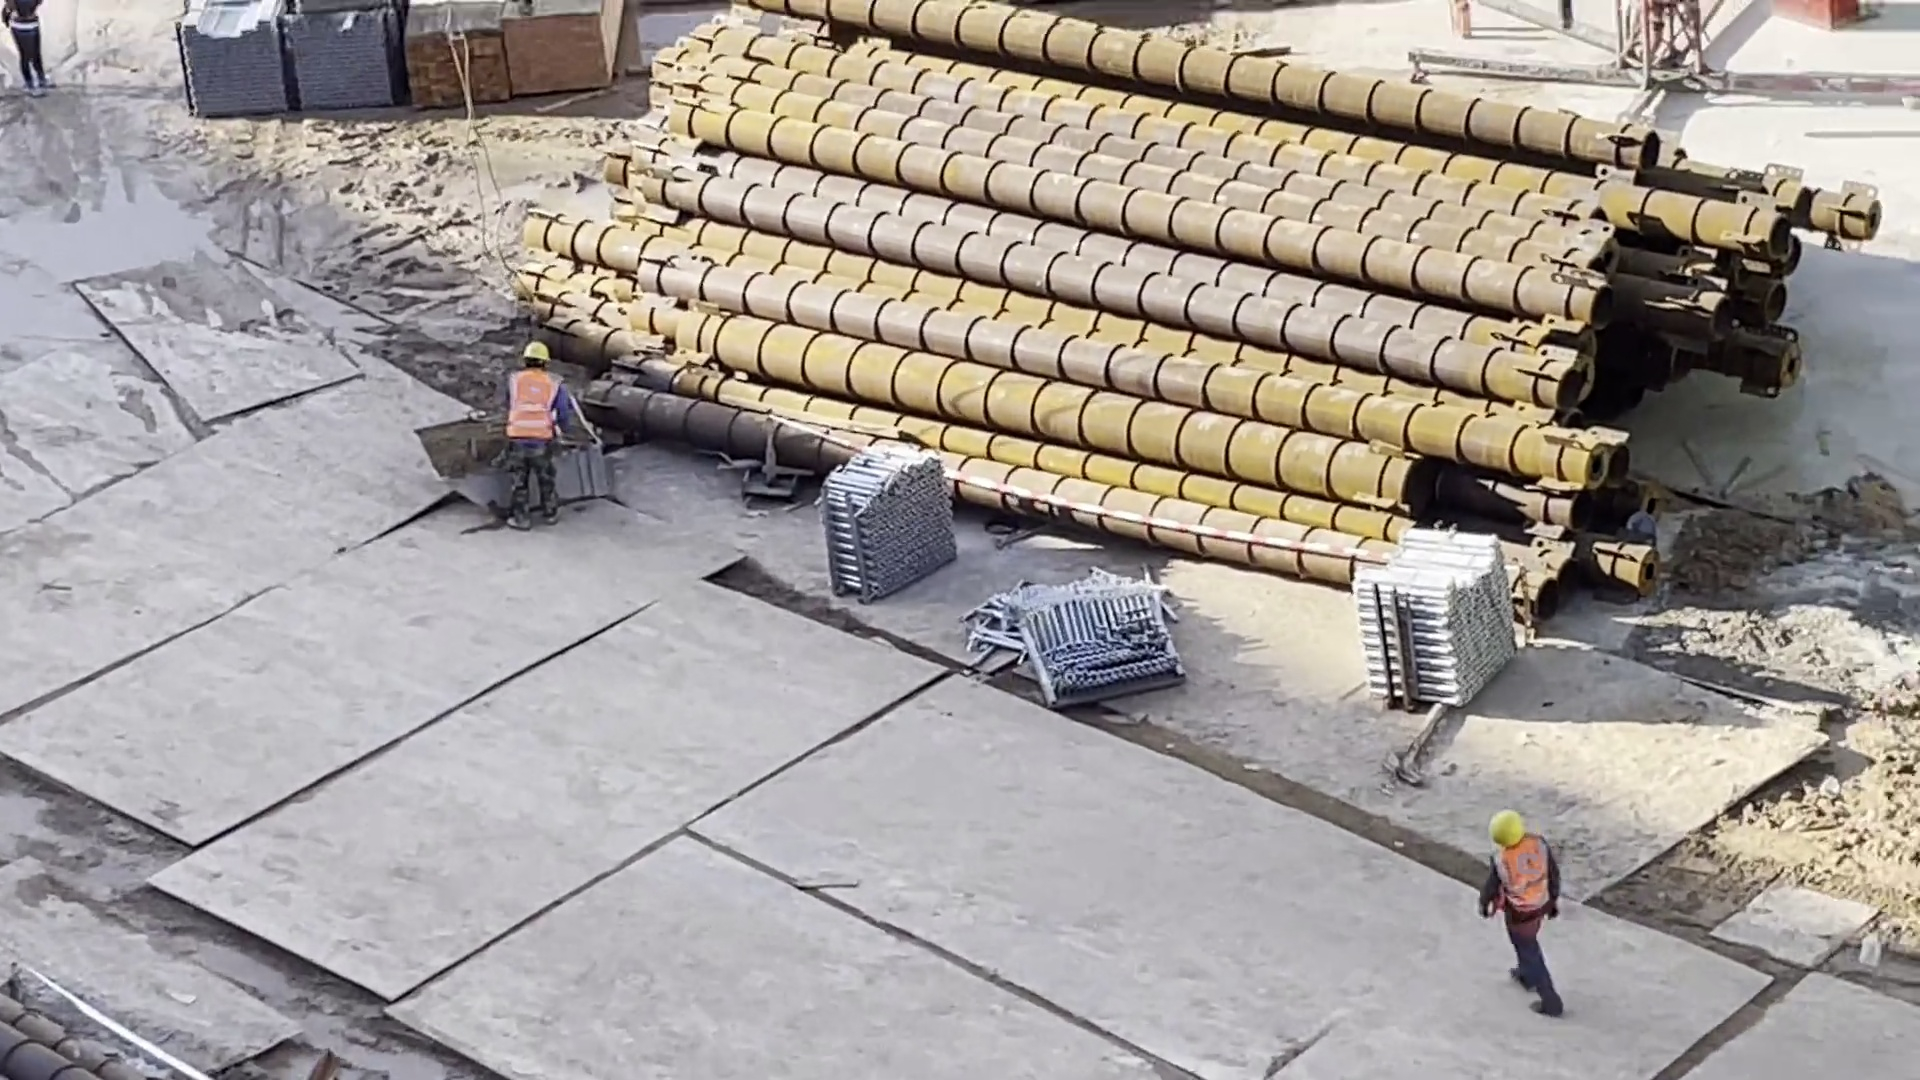helmet: (1484, 802, 1537, 852), (514, 335, 551, 371)
person: (1469, 804, 1574, 1041), (484, 319, 589, 534)
scaffold: (1354, 508, 1522, 750), (806, 427, 967, 602)
vest: (1480, 838, 1566, 923), (485, 363, 564, 449)
